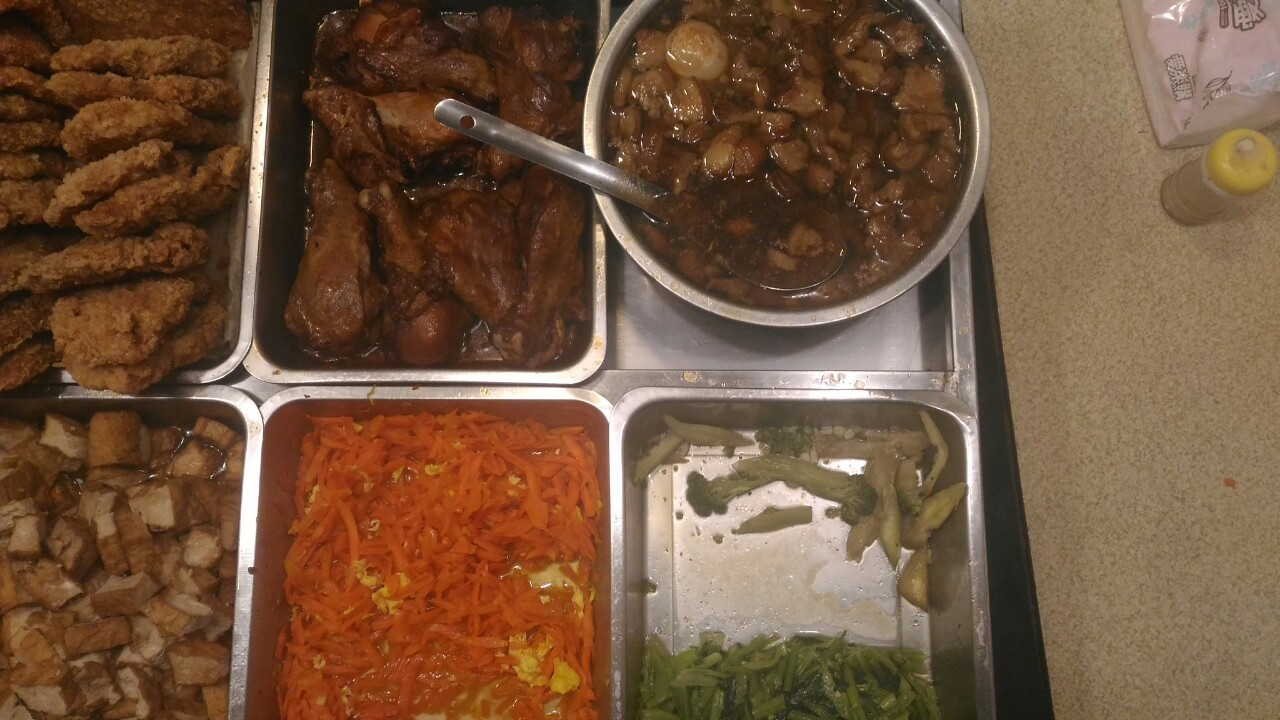carrot_eggs: (275, 412, 606, 720)
water_spinach: (647, 644, 937, 715)
